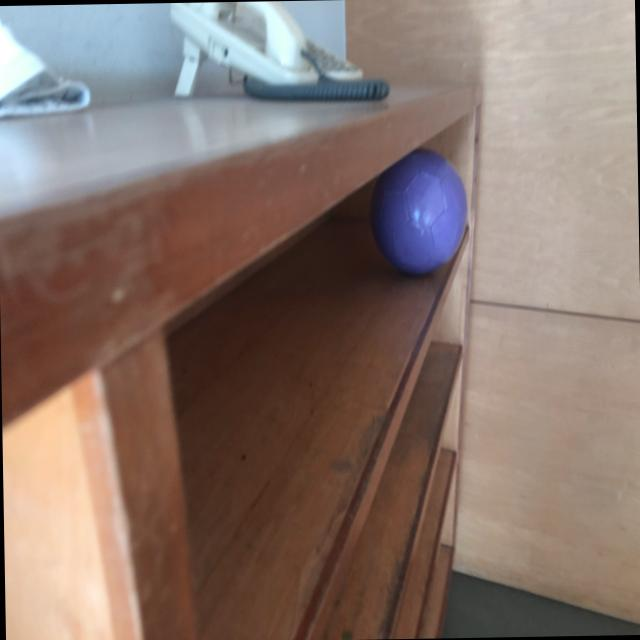purple_ball: (366, 150, 468, 278)
